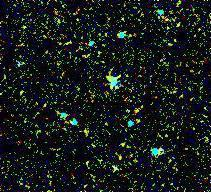star: (72, 116, 102, 146)
